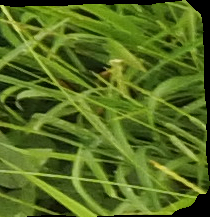grass: (1, 1, 209, 216)
